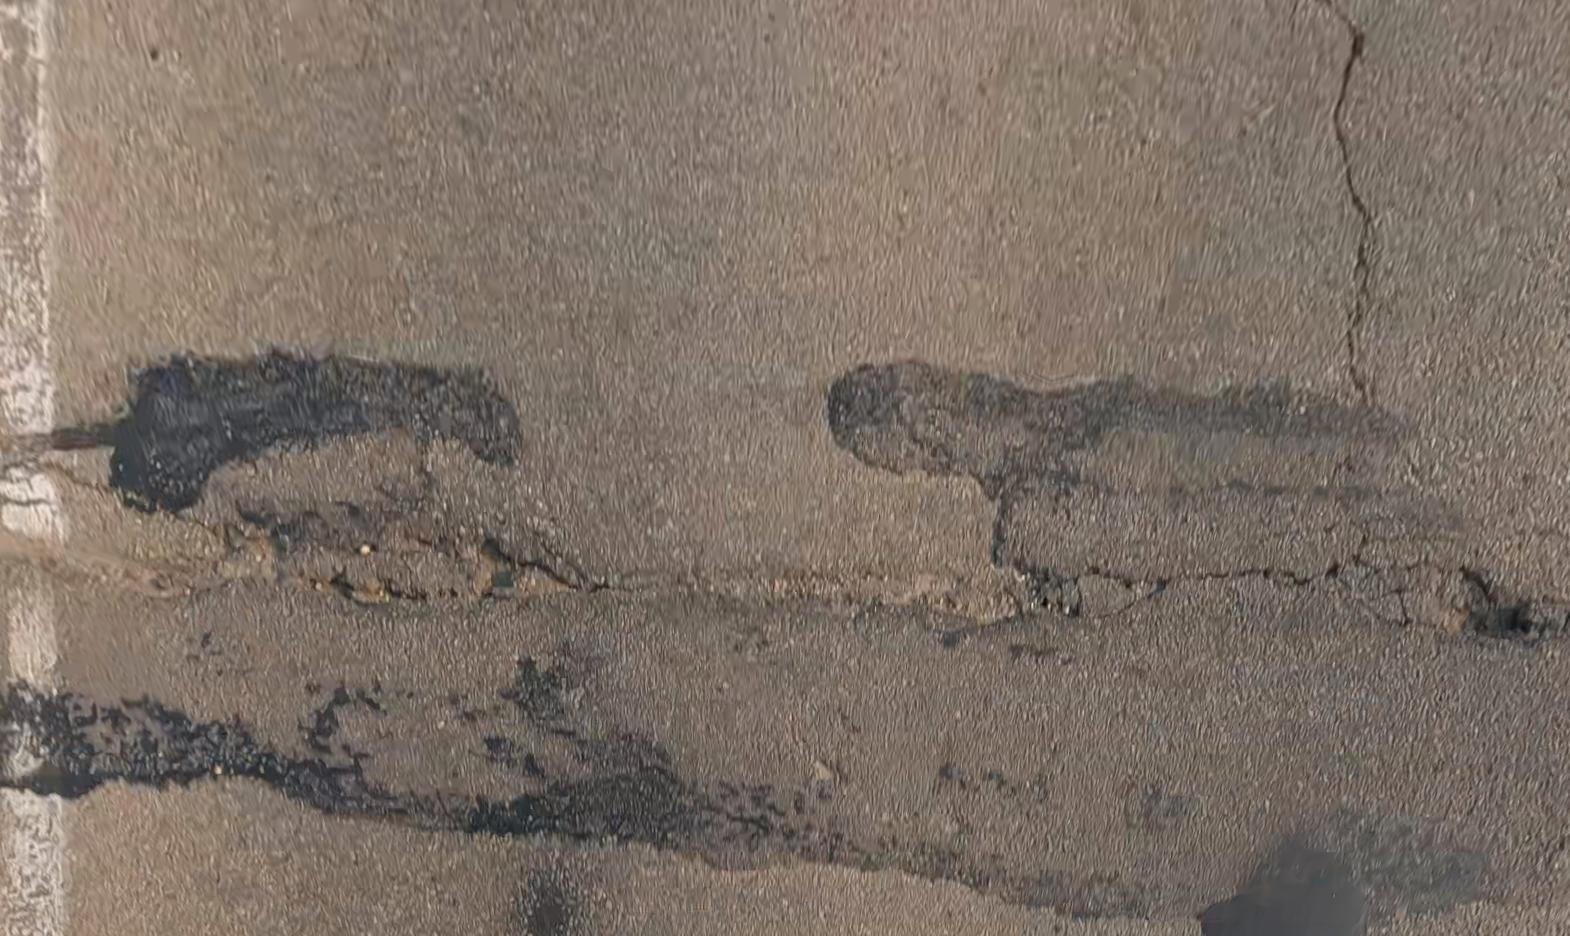pothole_patch_good: (0, 584, 1570, 919), (828, 361, 1441, 575), (94, 351, 520, 511), (1205, 837, 1371, 936), (517, 869, 584, 936)
pothole_patch_poor: (963, 553, 1570, 664), (207, 468, 614, 615)
